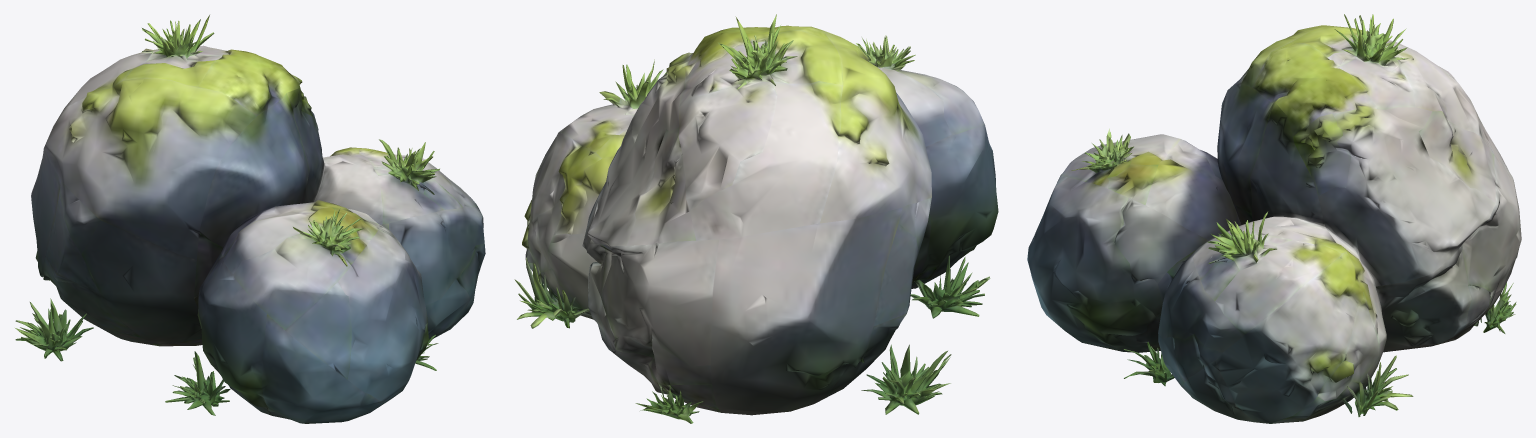
File: rocks-low.glb
3 renders of one model, left to right at view 1: azimuth 30°, elevation 25°; view 2: azimuth 150°, elevation 25°; view 3: azimuth 270°, elevation 25°, orthographic. The views are drawn at different scales.
Parts seen in each view (by area): view 1: tripo_node_877fe8c3-746c-47d7-b5fc-5a669d12636c; view 2: tripo_node_877fe8c3-746c-47d7-b5fc-5a669d12636c; view 3: tripo_node_877fe8c3-746c-47d7-b5fc-5a669d12636c.
Boxes of the visible parts, bbox=[...] form: tripo_node_877fe8c3-746c-47d7-b5fc-5a669d12636c: bbox=[15, 15, 485, 423]; tripo_node_877fe8c3-746c-47d7-b5fc-5a669d12636c: bbox=[514, 14, 998, 423]; tripo_node_877fe8c3-746c-47d7-b5fc-5a669d12636c: bbox=[1027, 14, 1521, 423].
Bounding box in the file's own units: 0.9301 × 0.6777 × 0.9993.
Materials: 1 (1 with a texture image).
